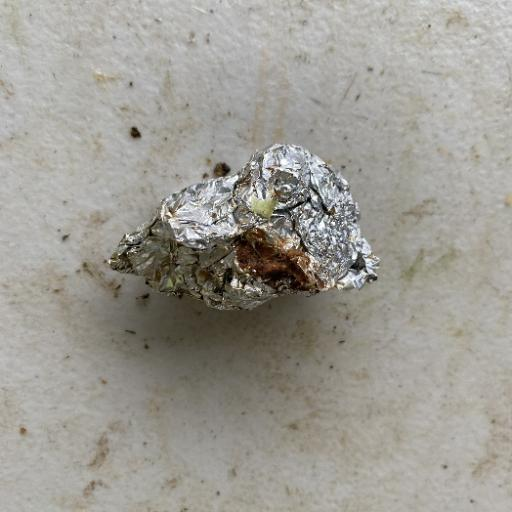Metal: (106, 140, 381, 312)
